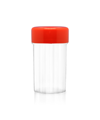medicinejar: (29, 24, 71, 97)
